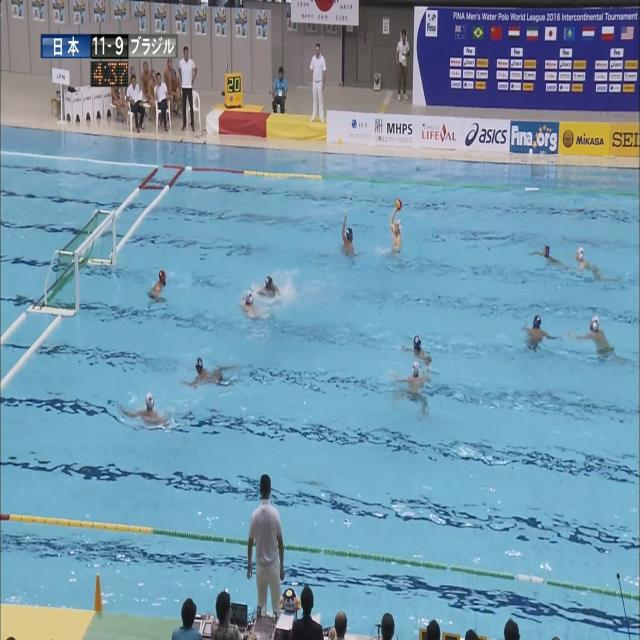ball: (395, 198, 402, 211)
